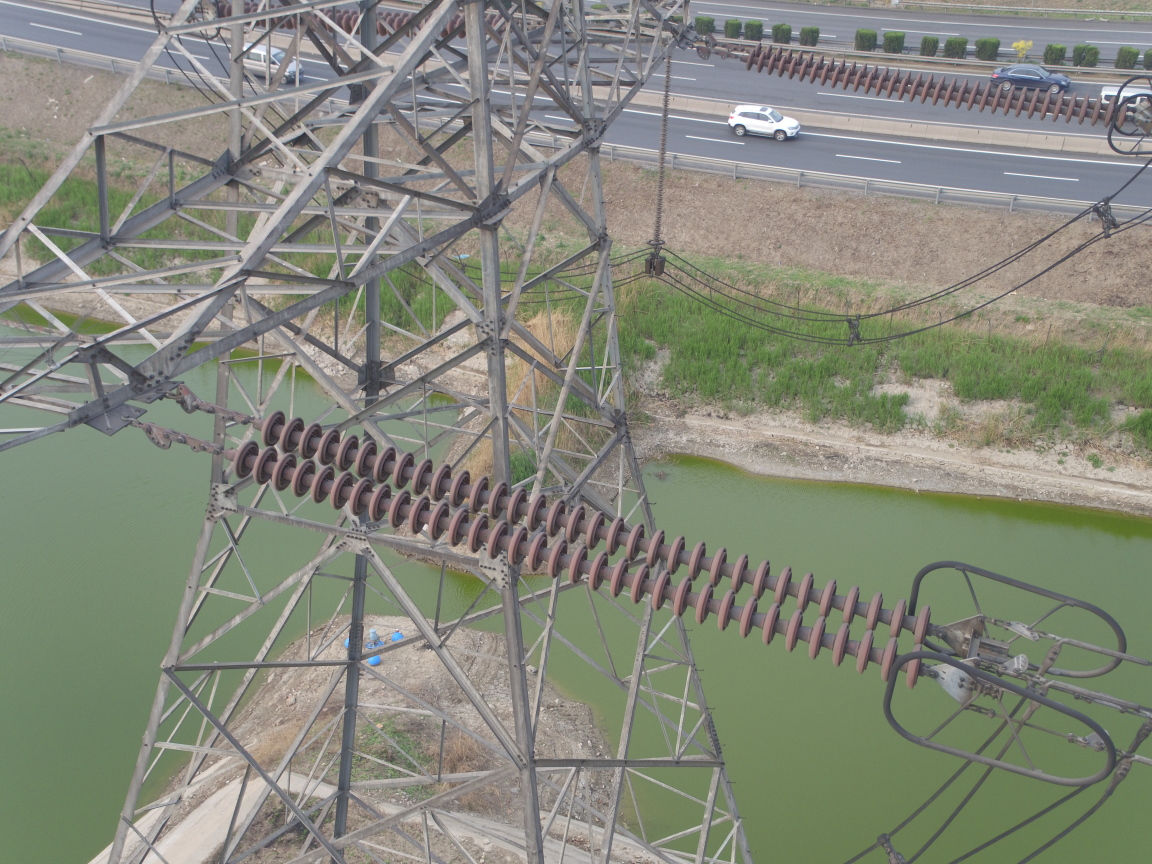insulator: (199, 403, 960, 691), (729, 38, 1139, 134)
